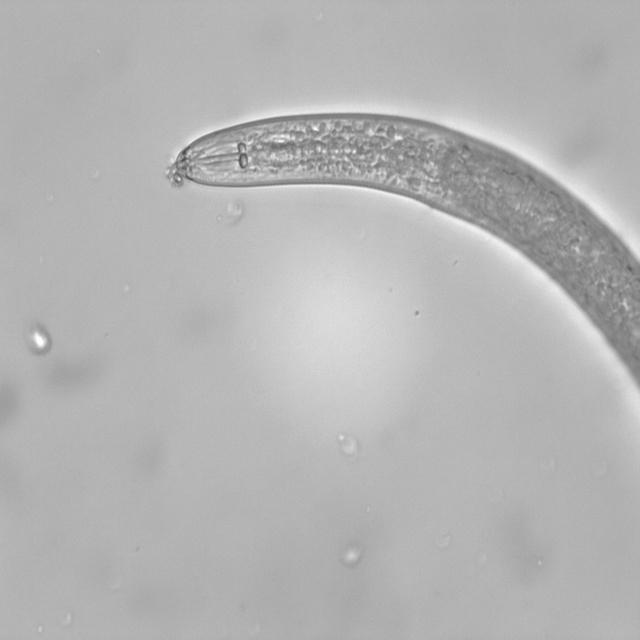Helicotylenchus: (152, 107, 640, 403)
